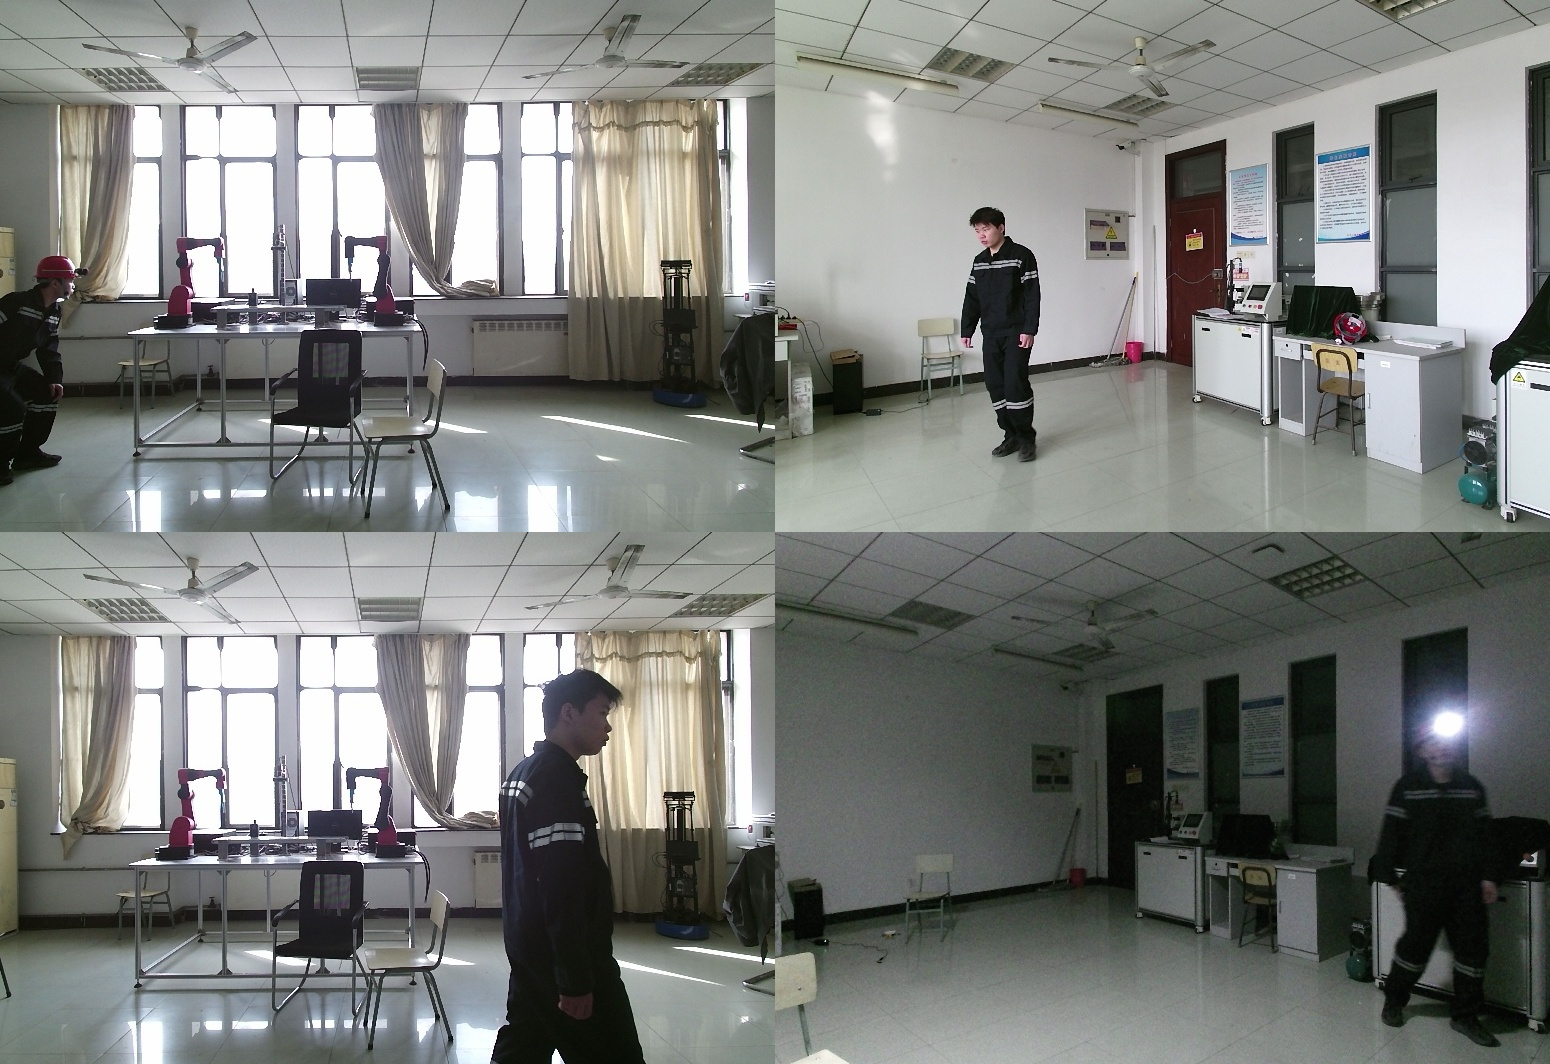person: (496, 674, 657, 1064), (1390, 715, 1519, 1043), (962, 207, 1064, 458), (2, 257, 83, 483)
